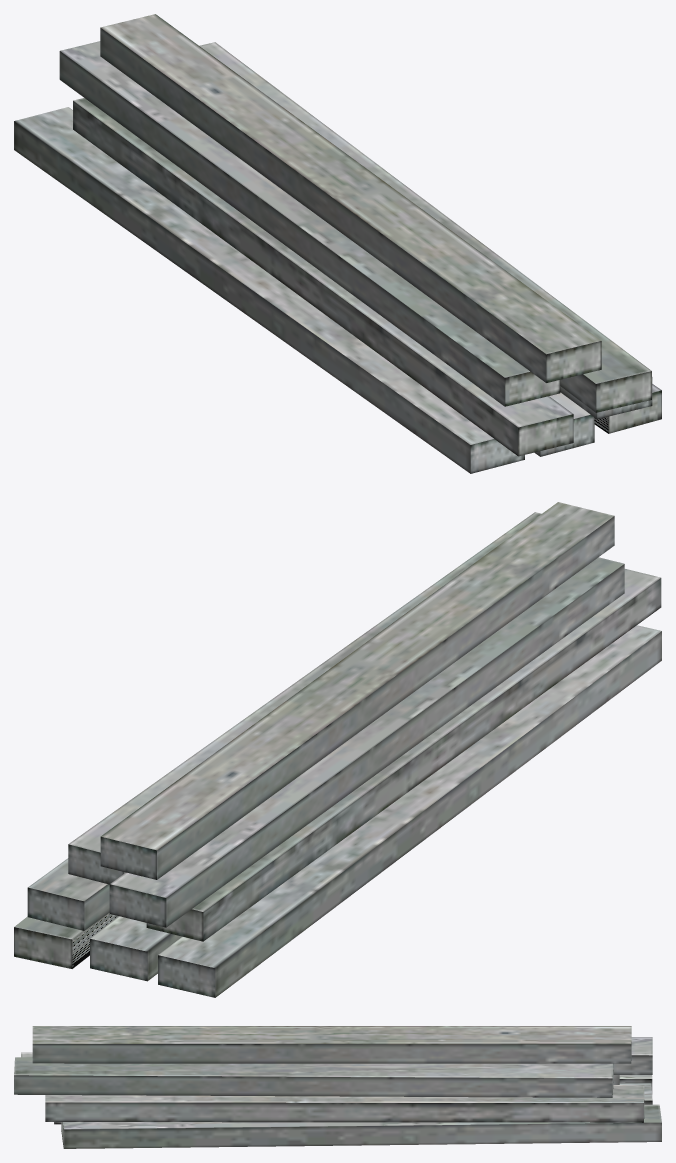
Rendered from mediumstack_2x4.fbx.
The picture shows the model from 3 angles, top to bottom: view 1: azimuth 30°, elevation 25°; view 2: azimuth 150°, elevation 25°; view 3: azimuth 270°, elevation 25°; orthographic projection. The views are drawn at different scales.
Visible parts, largest first — view 1: mesh_0; view 2: mesh_0; view 3: mesh_0.
Part boxes in pixels (x1=…): mesh_0: x1=14, y1=14, x2=661, y2=473; mesh_0: x1=14, y1=502, x2=661, y2=997; mesh_0: x1=14, y1=1026, x2=661, y2=1148.
Bounding box in the file's own units: 41.84 × 22.05 × 167.
Materials: 1 (1 with a texture image).
